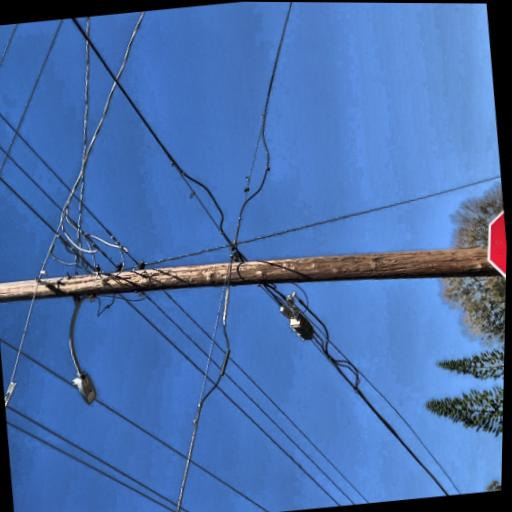pole: (11, 14, 157, 512)
street light: (0, 205, 90, 245)
